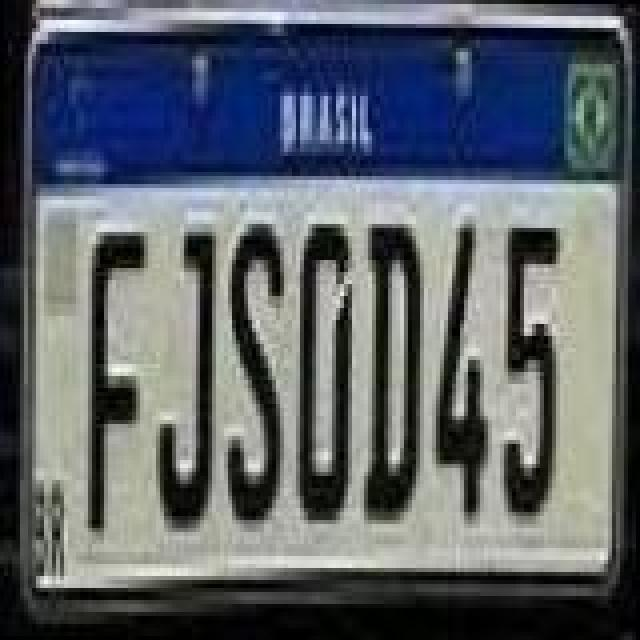4: (434, 216, 494, 524)
5: (502, 224, 562, 520)
D: (296, 222, 360, 530), (360, 216, 424, 524)
F: (88, 226, 148, 534)
J: (154, 224, 218, 532)
S: (224, 214, 288, 534)
